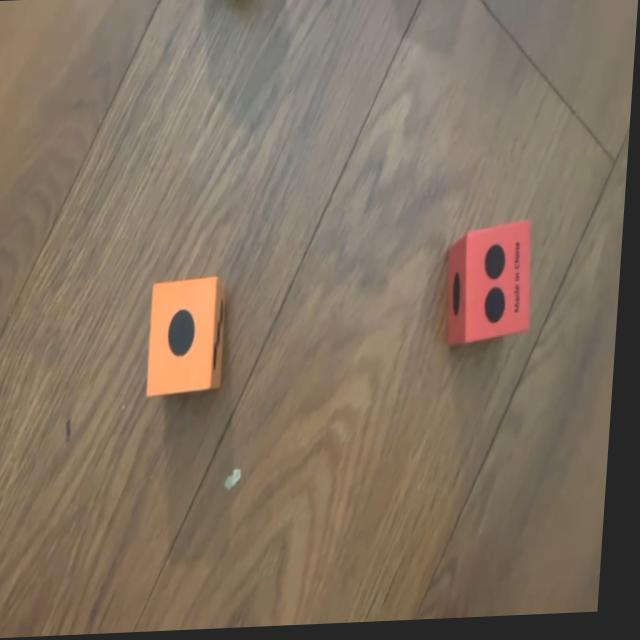cube: (446, 225, 540, 349)
